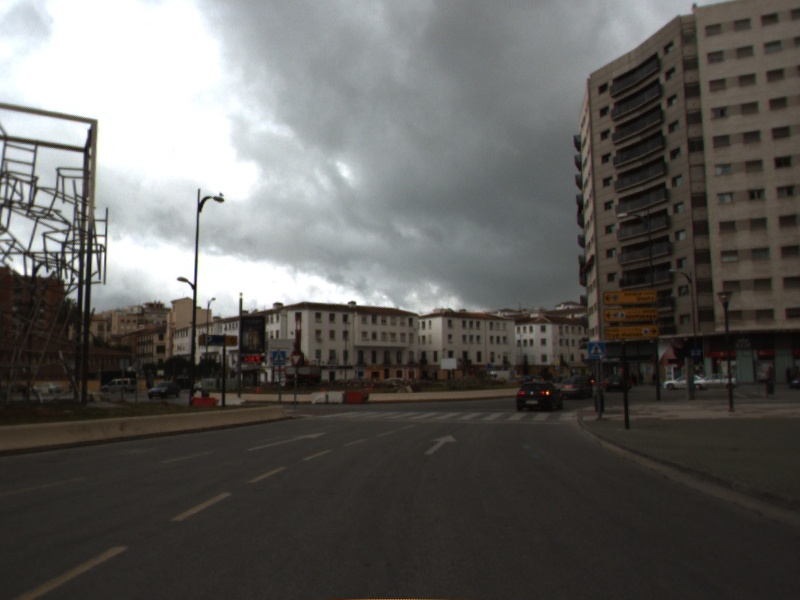STRAIGHT: (244, 429, 330, 453), (422, 432, 459, 457)
